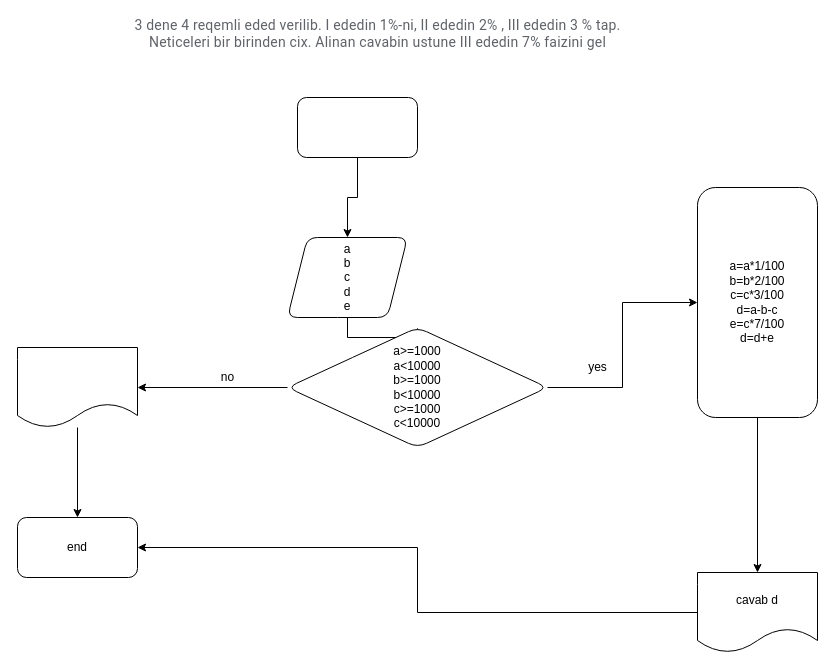
Image size: 835x670. Some labels were removed from this diagram. Each missing label, with the box of its shape:
reqem 4 reqemli deyildir: (16, 346, 138, 428)
start: (296, 96, 418, 158)
